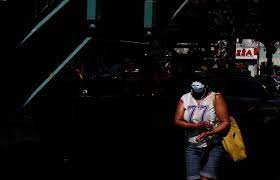mask: (191, 81, 206, 92)
